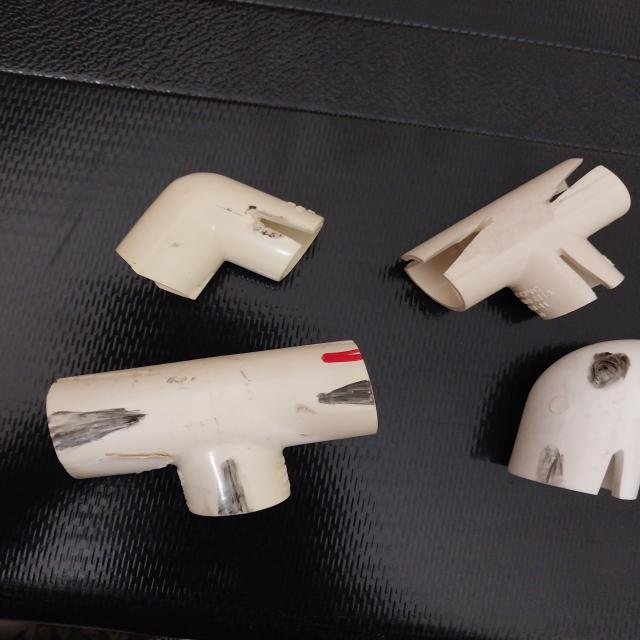Defective: (52, 406, 154, 440), (558, 248, 616, 296), (429, 231, 491, 273), (302, 386, 376, 413), (550, 166, 594, 207), (590, 351, 633, 389), (219, 457, 249, 511), (596, 453, 625, 502), (539, 444, 565, 487), (320, 348, 364, 366)
L Joint: (113, 172, 324, 298), (512, 345, 636, 496)
T Joint: (44, 343, 380, 520), (400, 154, 636, 322)
